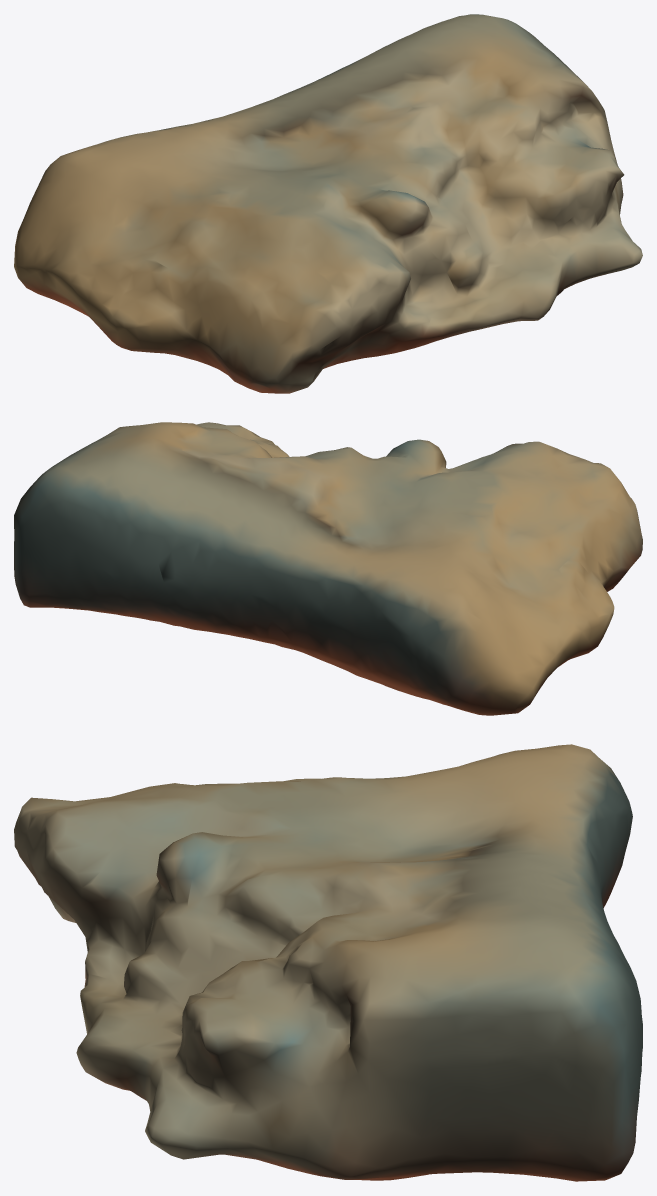
Rendered from rock32_low.fbx.
3 renders of one model, top to bottom at view 1: azimuth 30°, elevation 25°; view 2: azimuth 150°, elevation 25°; view 3: azimuth 270°, elevation 25°, orthographic. The views are drawn at different scales.
Visible parts, largest first — view 1: rock32_low; view 2: rock32_low; view 3: rock32_low.
Part boxes in pixels (x1,y1,x2,y2): rock32_low: [14, 14, 642, 393]; rock32_low: [14, 422, 642, 715]; rock32_low: [14, 744, 642, 1181].
Bounding box in the file's own units: 1.31 × 0.4569 × 1.
